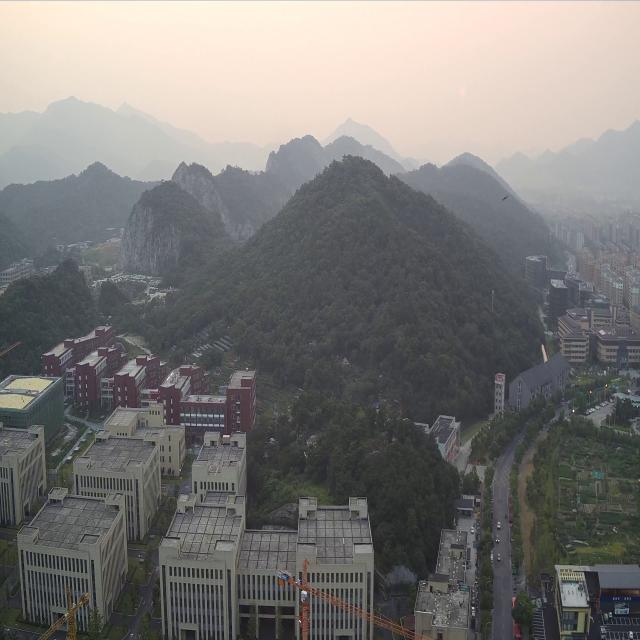drone: (501, 194, 508, 200)
